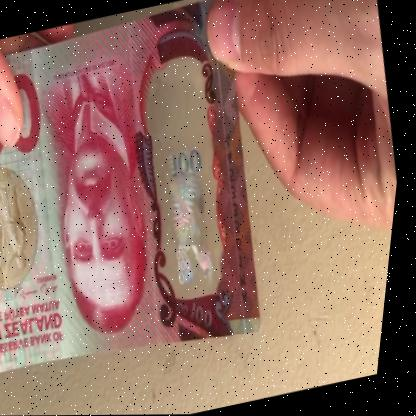100F: (141, 86, 242, 293)
